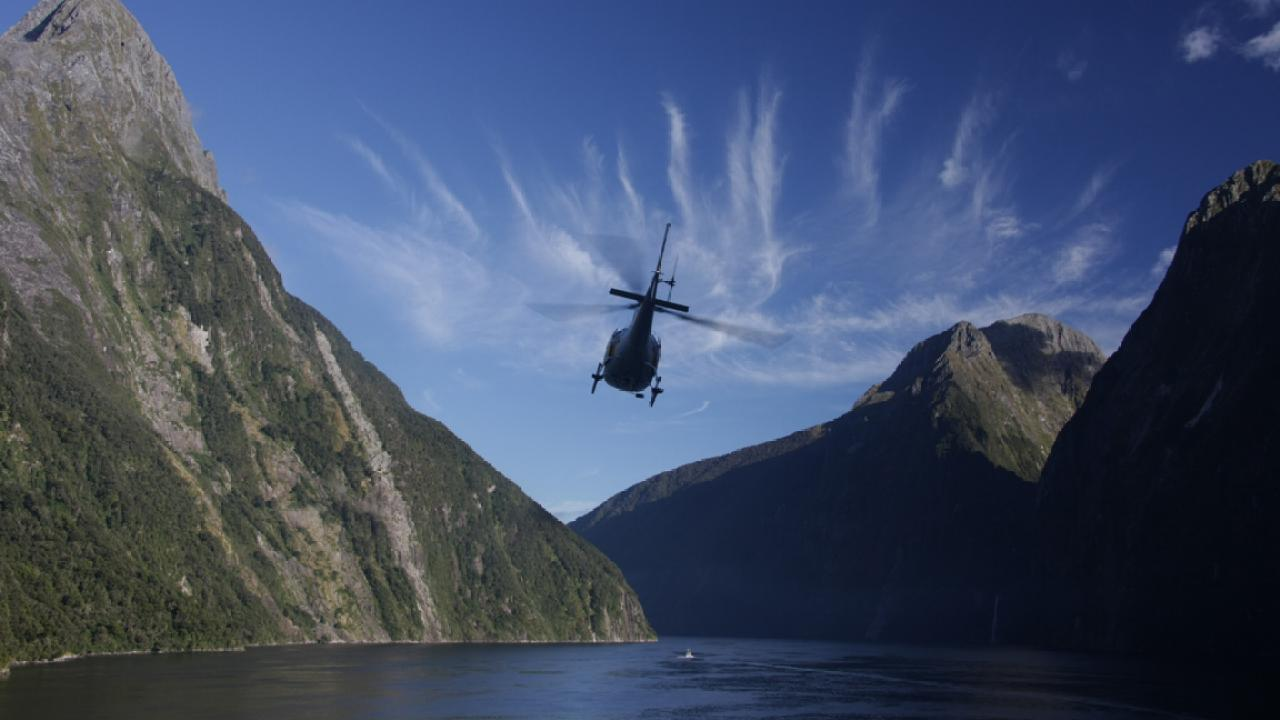Helicopter: (484, 210, 811, 427)
